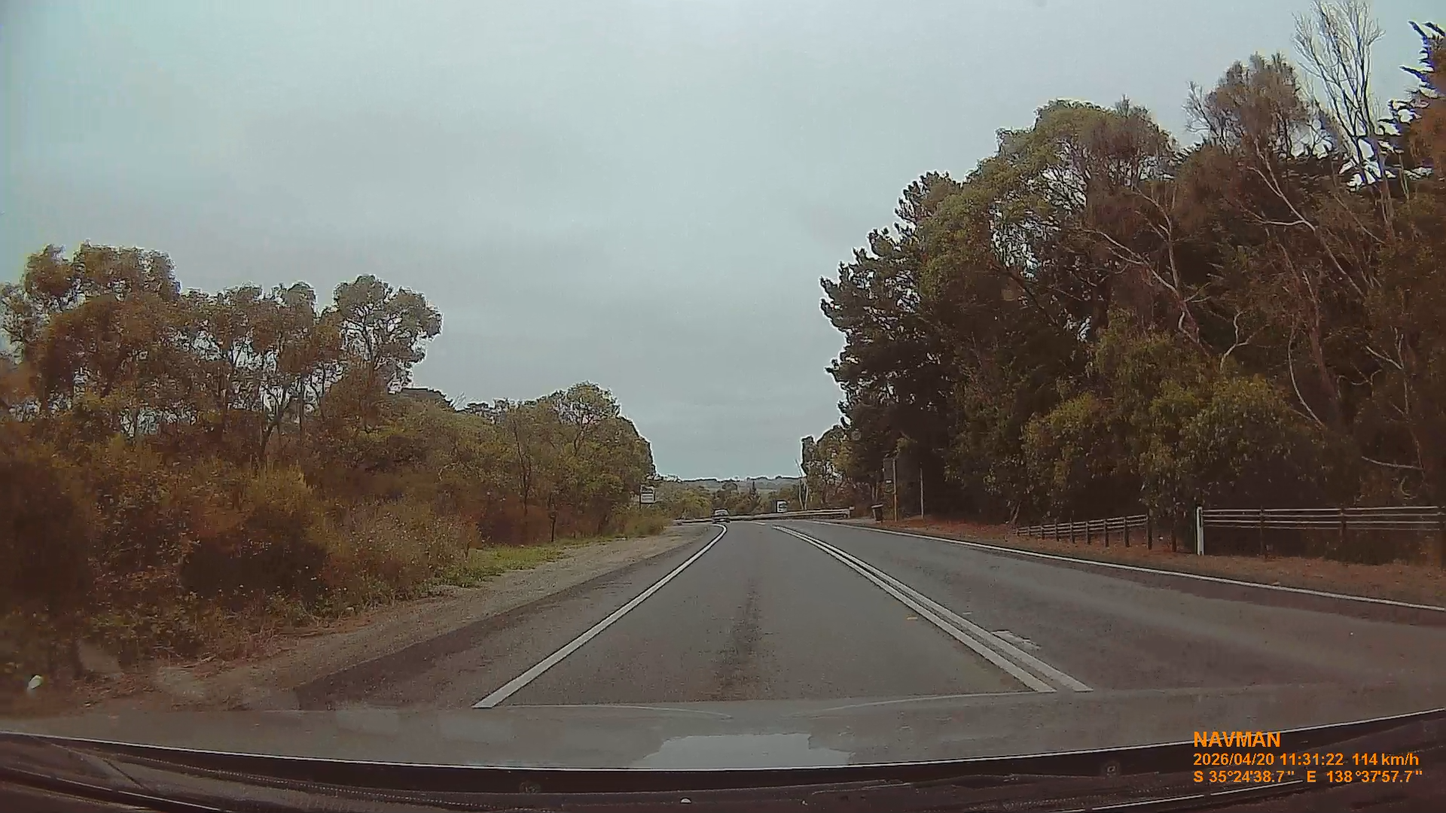road barriers: (785, 510, 850, 519)
